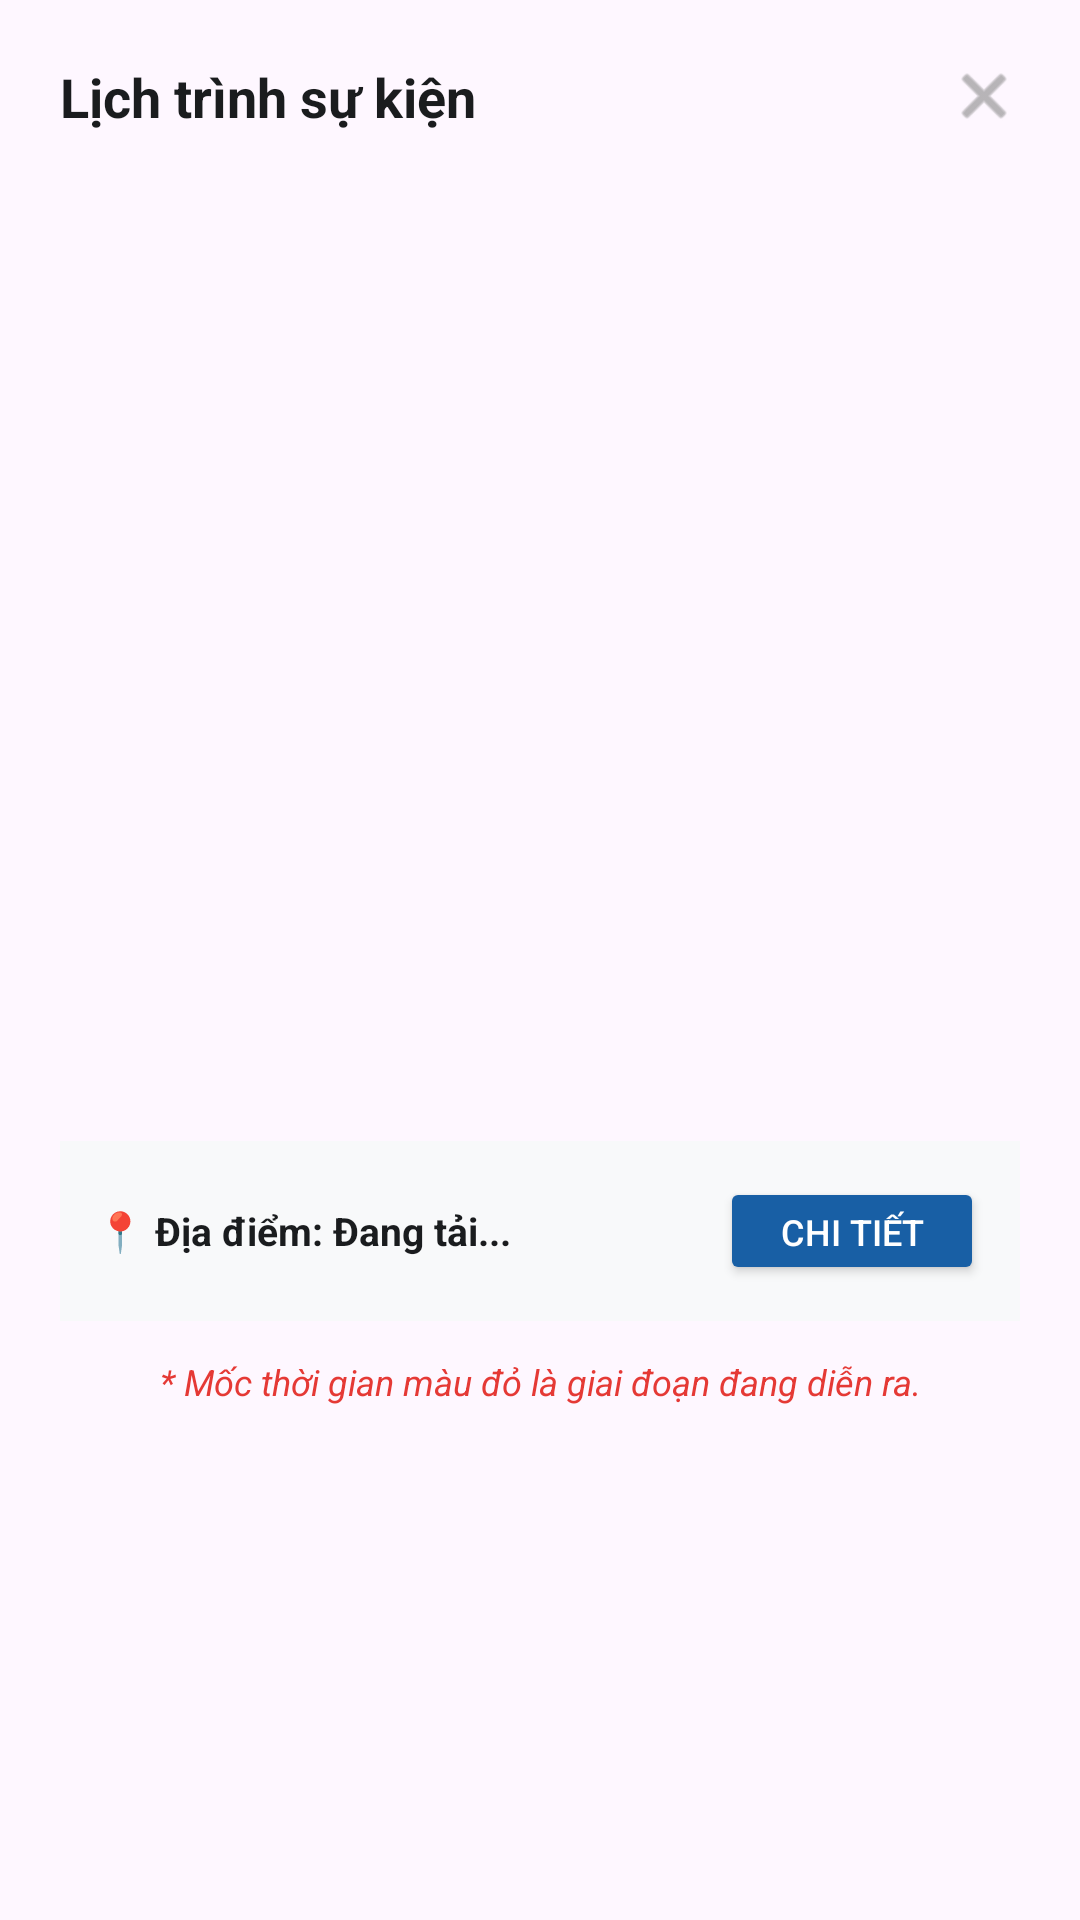

Icons on this 1080×1920 Android screen, each with the point to tap as (x=x, y=y):
close clear cancel: (x=984, y=96)
